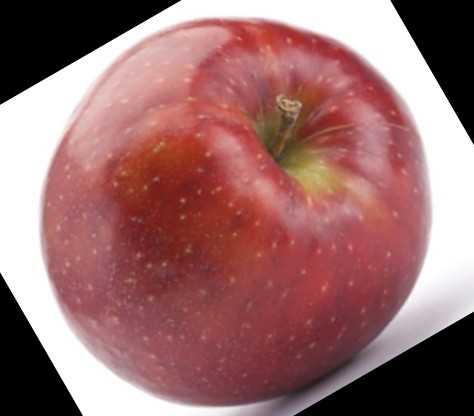fresh_apple: (37, 19, 431, 400)
